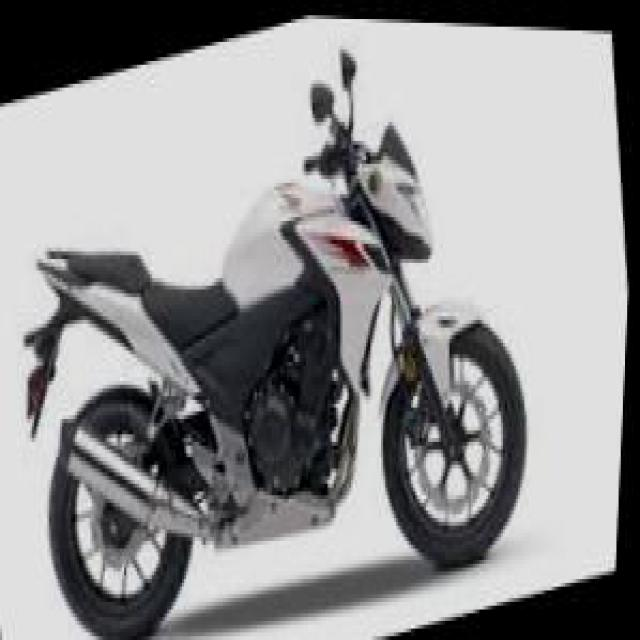CB500F: (2, 61, 559, 636)
